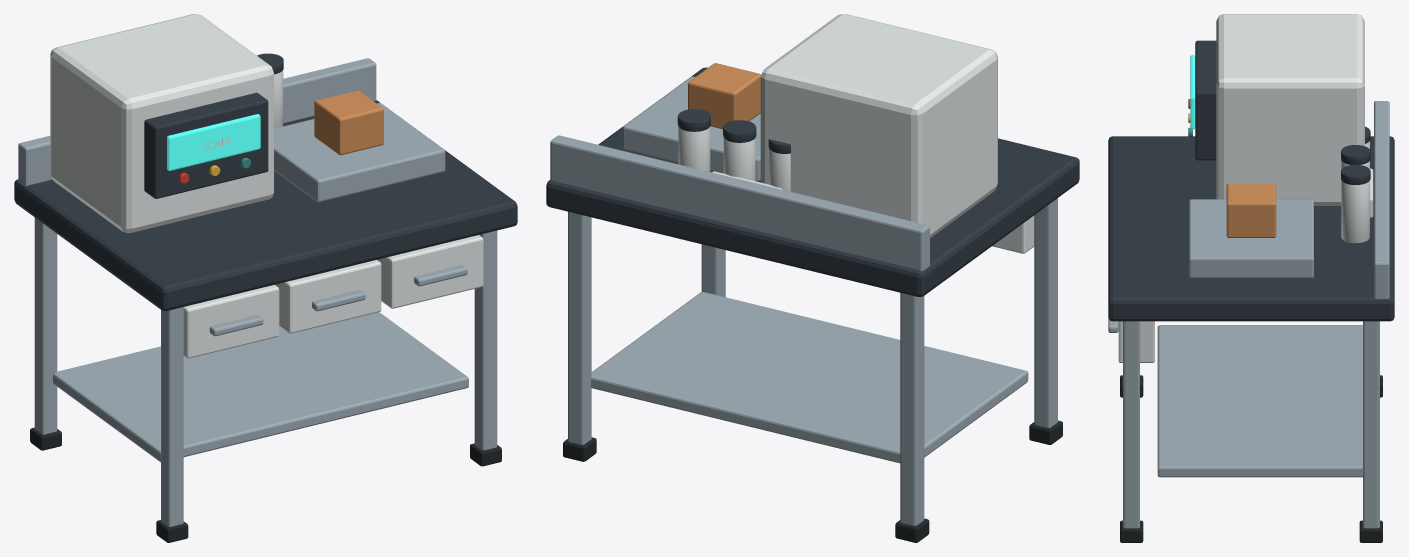
Rendered from material-analyser.glb.
3 renders of one model, left to right at view 1: azimuth 30°, elevation 25°; view 2: azimuth 150°, elevation 25°; view 3: azimuth 270°, elevation 25°, orthographic. The views are drawn at different scales.
Parts seen in each view (by area): view 1: Worktop, Equipment shelf, Instrument housing, Sample tray, Display housing, Tubular leg, Cabinet drawer.002, Cabinet drawer.001, Tubular leg.001, Splashback, Tubular leg.002, Cabinet drawer (+5 smaller); view 2: Instrument housing, Equipment shelf, Worktop, Splashback, Tubular leg.001, Tubular leg.003, Tubular leg, Sample tray, Reference block, Closed sample container.002, Closed sample container.001, Tubular leg.002 (+4 smaller); view 3: Equipment shelf, Worktop, Instrument housing, Sample tray, Tubular leg.002, Tubular leg.003, Splashback, Reference block, Display housing, Closed sample container.002, Cabinet drawer.002, Lid.002 (+4 smaller).
Part boxes in pixels (x1,y1,x2,y2): Worktop: (14,100,517,310); Equipment shelf: (53,312,468,462); Instrument housing: (50,14,273,232); Sample tray: (274,103,445,202); Display housing: (144,92,268,198); Tubular leg: (161,307,183,526); Cabinet drawer.002: (377,235,483,308); Cabinet drawer.001: (275,260,381,333); Tubular leg.001: (34,217,57,434); Splashback: (18,58,376,186); Tubular leg.002: (474,230,497,450); Cabinet drawer: (183,284,279,358); Instrument housing: (760,14,997,237); Equipment shelf: (591,292,1028,463); Worktop: (546,67,1079,296); Splashback: (550,135,929,270); Tubular leg.001: (900,293,924,525); Tubular leg.003: (568,211,591,444); Tubular leg: (1034,198,1057,427); Sample tray: (623,76,760,181); Reference block: (688,63,761,129); Closed sample container.002: (678,127,710,171); Closed sample container.001: (723,138,755,181); Tubular leg.002: (701,244,725,297); Equipment shelf: (1157,325,1362,477); Worktop: (1108,136,1394,321); Instrument housing: (1216,14,1364,205); Sample tray: (1189,199,1313,278); Tubular leg.002: (1123,321,1139,528); Tubular leg.003: (1363,321,1379,528); Splashback: (1374,101,1389,299); Reference block: (1226,183,1276,237); Display housing: (1195,40,1216,160); Closed sample container.002: (1341,180,1369,243); Cabinet drawer.002: (1118,321,1154,362); Lid.002: (1341,164,1370,184).
Bounding box in the file's own units: 1.5 × 1.62 × 1.1.
